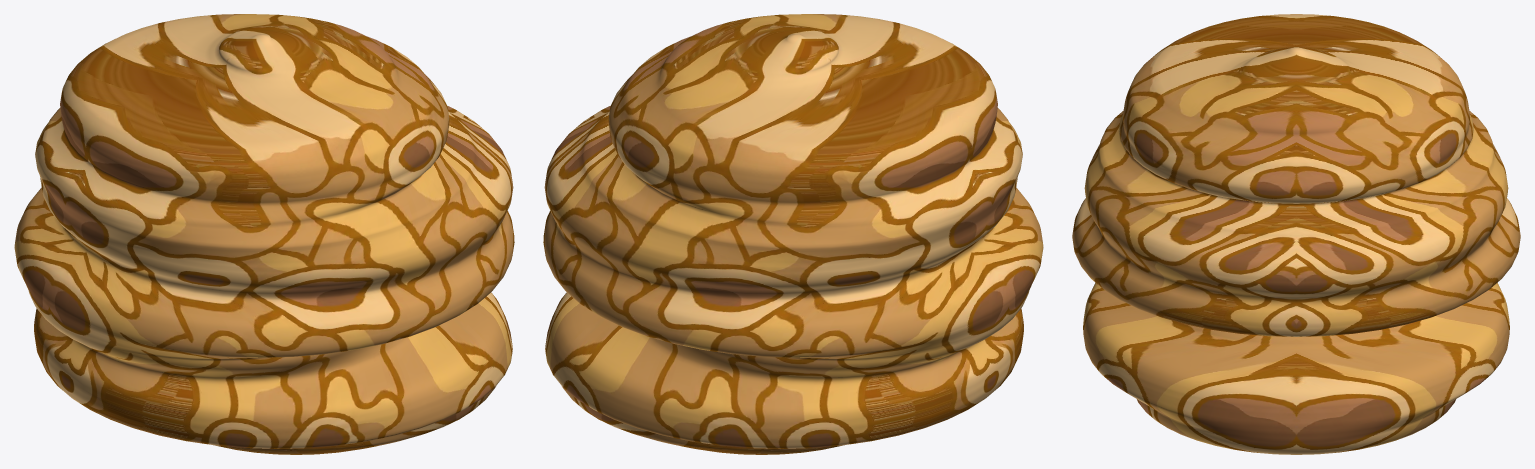
The model's file is tube_sponge.glb.
3 renders of one model, left to right at view 1: azimuth 30°, elevation 25°; view 2: azimuth 150°, elevation 25°; view 3: azimuth 270°, elevation 25°, orthographic. The views are drawn at different scales.
Parts seen in each view (by area): view 1: tube_sponge; view 2: tube_sponge; view 3: tube_sponge.
Part boxes in pixels (bbox=[...]): tube_sponge: bbox=[14, 14, 514, 454]; tube_sponge: bbox=[543, 14, 1043, 454]; tube_sponge: bbox=[1072, 14, 1520, 454].
Size of the model in its own units: 1 by 0.8159 by 0.9968.
1 material, 1 textured.
